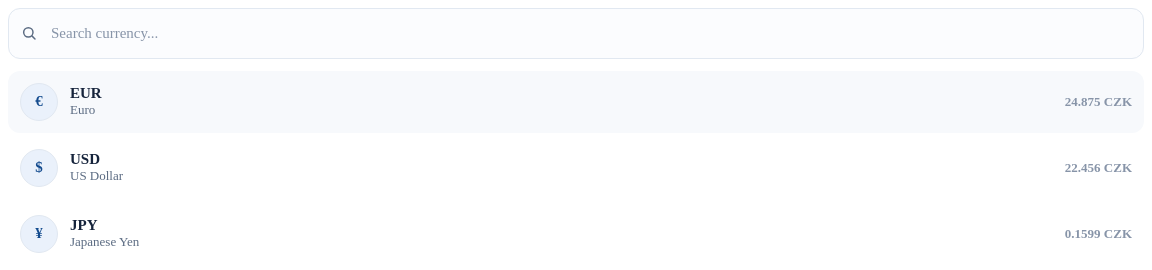
Scenario: RatesList › shows empty message when filter matches nothing
Step 1. Type "xyz" into the field with placeholder "Search currency..." → (590, 33), box [49, 21, 1131, 46]
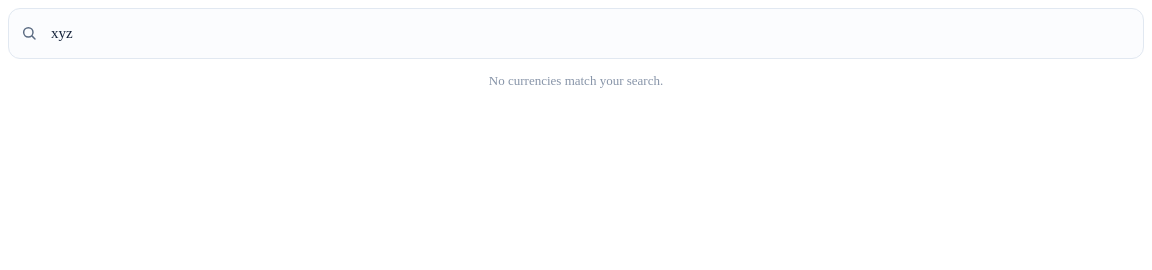
Now the text "No currencies match your search." is shown, box [489, 72, 663, 88]
